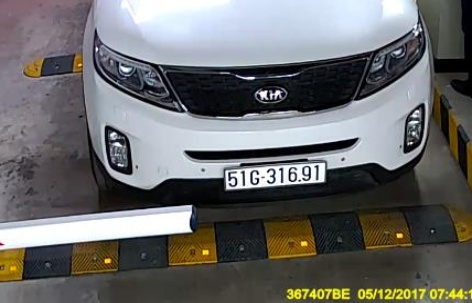plate: (223, 160, 335, 190)
